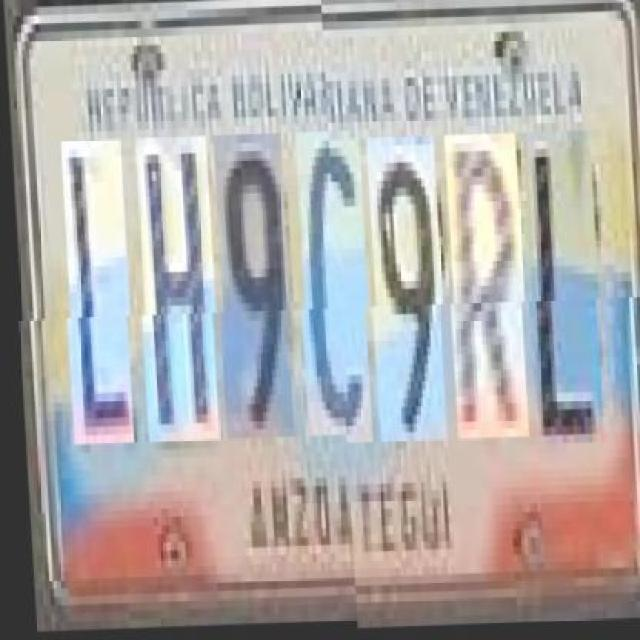9: (364, 139, 445, 444), (212, 144, 292, 448)
c: (293, 142, 372, 446)
h: (134, 146, 218, 451)
l: (520, 134, 603, 448), (59, 149, 133, 453)
r: (442, 137, 527, 441)
